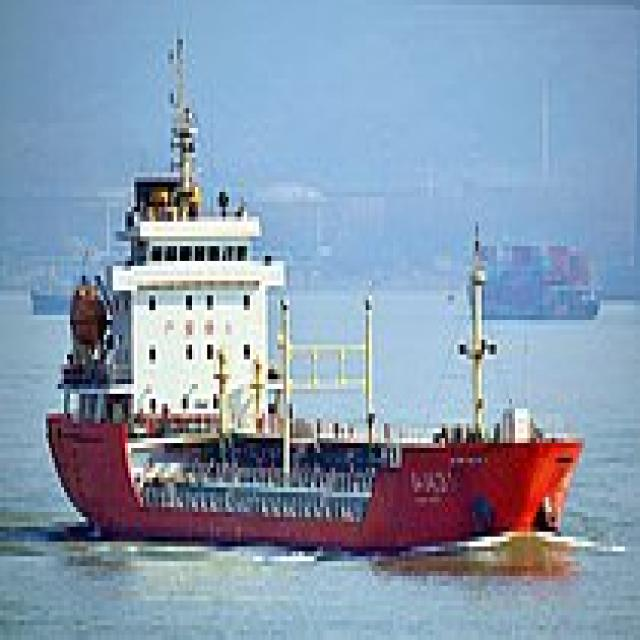Tanker: (43, 29, 585, 552)
